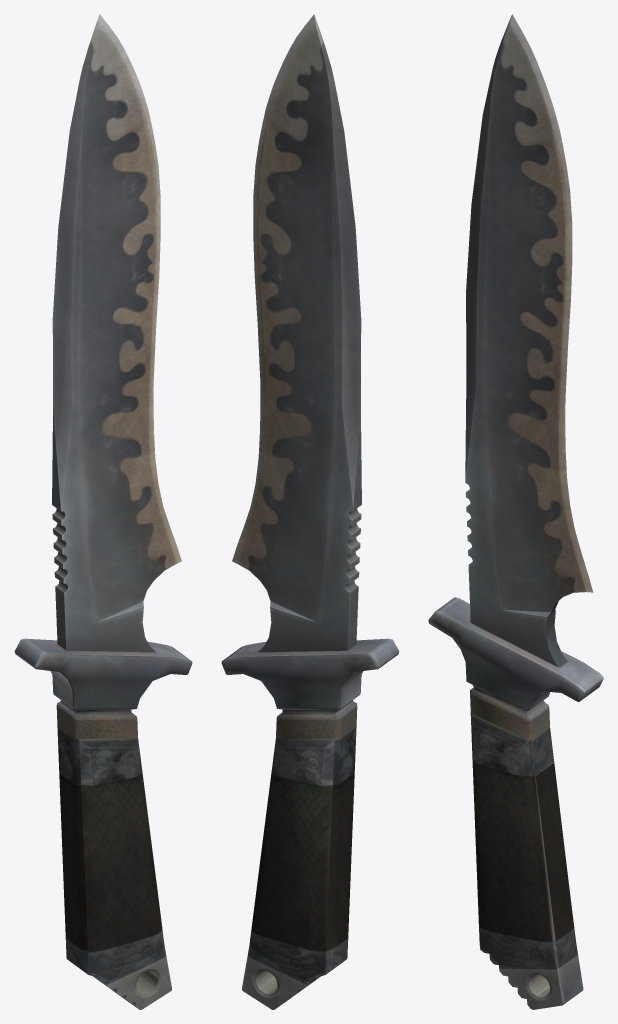
The model's file is weapon_knife_css.glb.
3 views of the same model, side by side, from view 1: azimuth 30°, elevation 25°; view 2: azimuth 150°, elevation 25°; view 3: azimuth 330°, elevation 25° (orthographic).
Parts seen in each view (by area): view 1: weapons/models/knife/knife_css/weapon_knife_css.vmdl_c.body_; view 2: weapons/models/knife/knife_css/weapon_knife_css.vmdl_c.body_; view 3: weapons/models/knife/knife_css/weapon_knife_css.vmdl_c.body_.
Boxes of the visible parts, <box> form: weapons/models/knife/knife_css/weapon_knife_css.vmdl_c.body_: <box>14,14,192,1009</box>; weapons/models/knife/knife_css/weapon_knife_css.vmdl_c.body_: <box>221,14,399,1009</box>; weapons/models/knife/knife_css/weapon_knife_css.vmdl_c.body_: <box>428,14,603,1009</box>.
Size of the model in its own units: 2.55 by 15.36 by 0.8236.
1 material, 1 textured.
